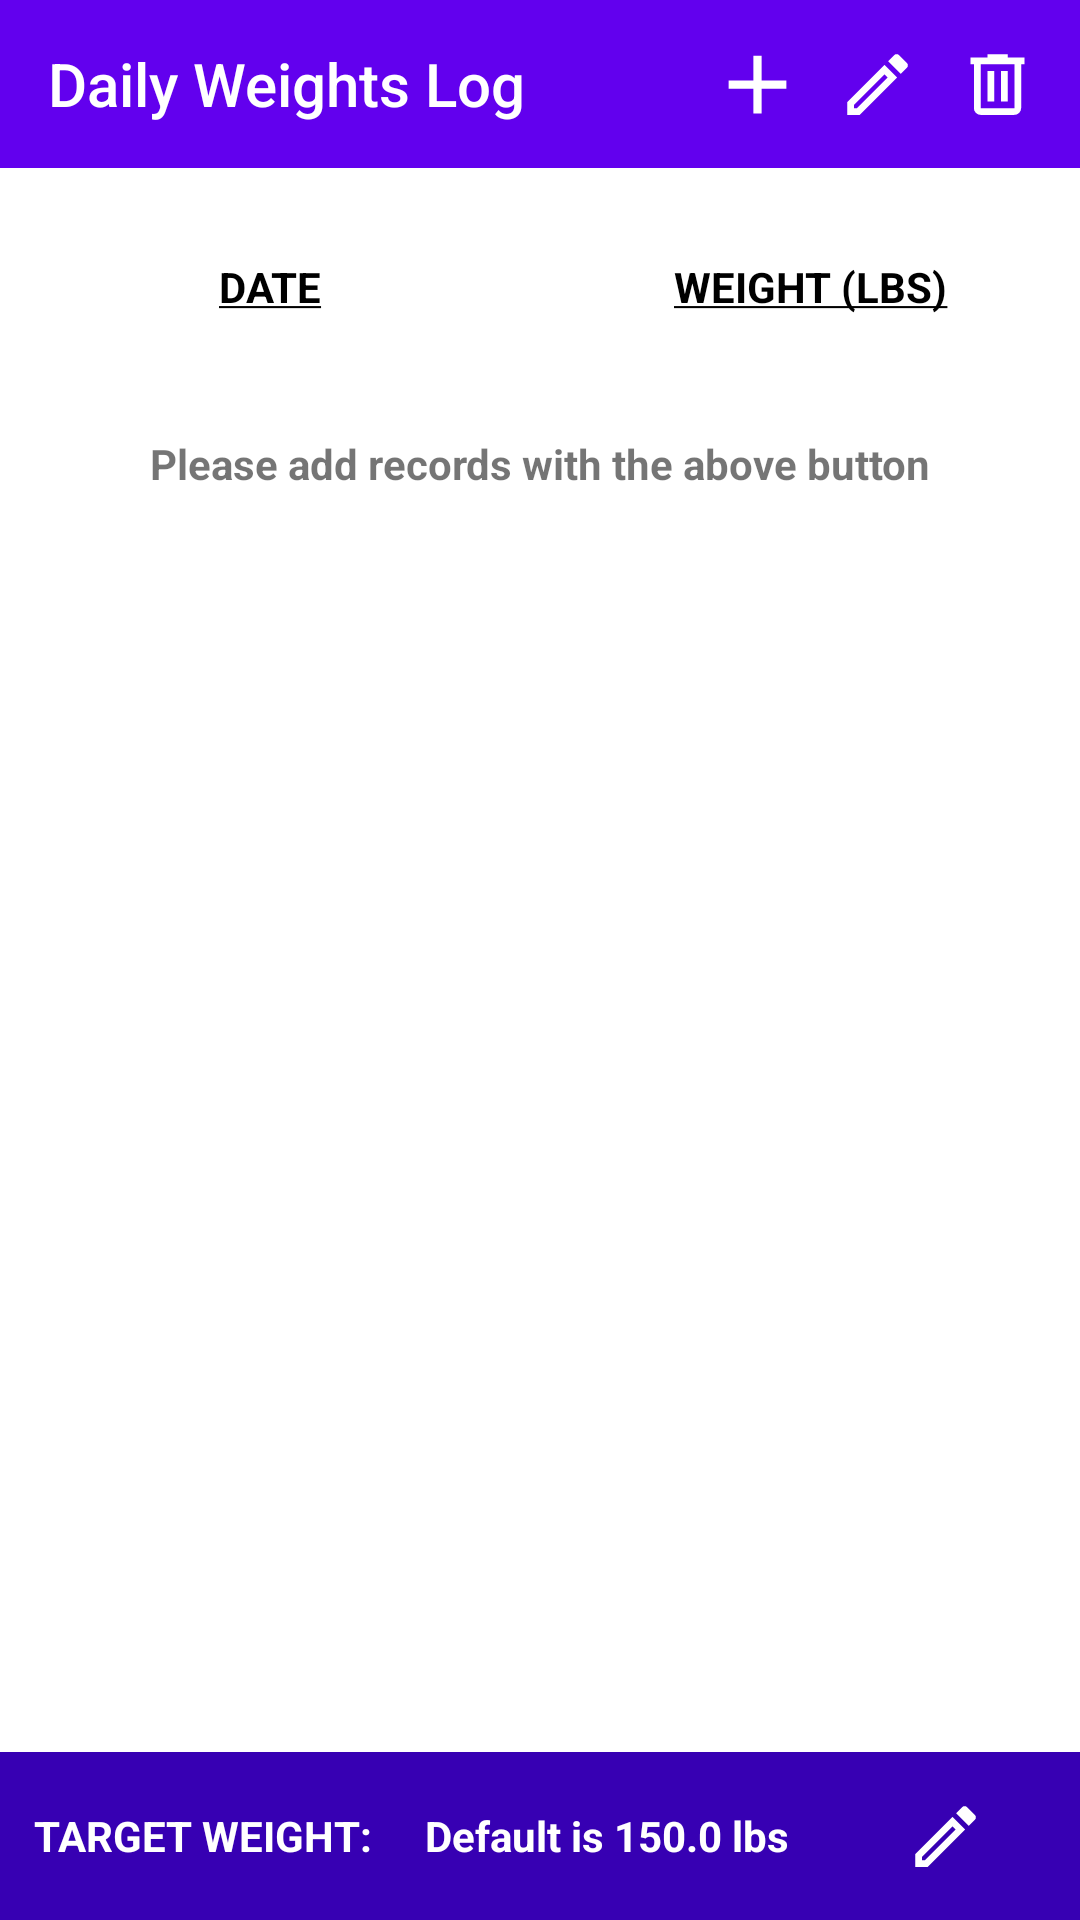

Point at icon controls on the screen. Image size 1080×1920, points as point (x, y).
add: point (757, 84)
pencil edit: point (877, 84), point (945, 1836)
trash can: point (997, 84)
